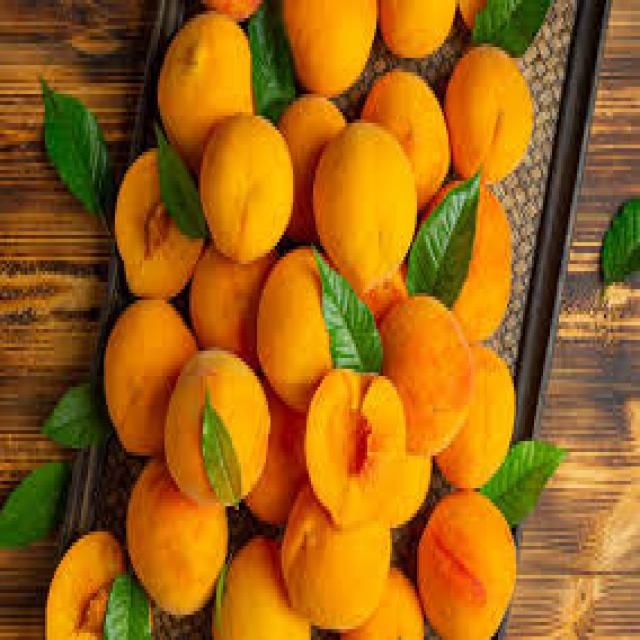kayisi: (110, 315, 259, 583), (306, 358, 415, 528), (316, 123, 417, 300), (192, 116, 303, 260), (441, 43, 546, 188), (428, 492, 516, 640)
yaprak: (32, 62, 121, 221)
